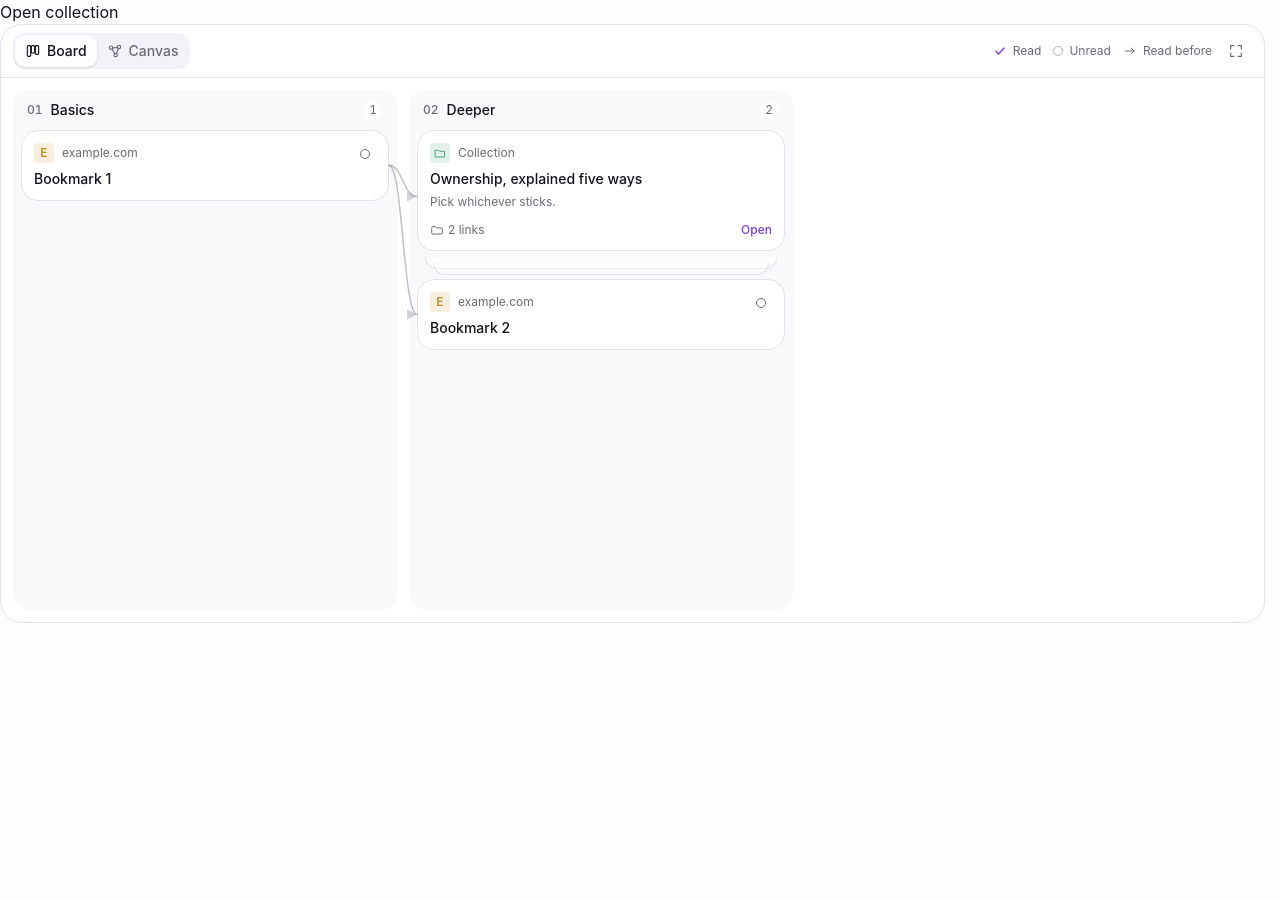
Test: CollectionSheet › puts the sheet comments behind a Comments tab, and nothing without a provider
Click the button that starts with "Collection" at [486, 152], box x1=417 y1=130 x2=785 y2=251
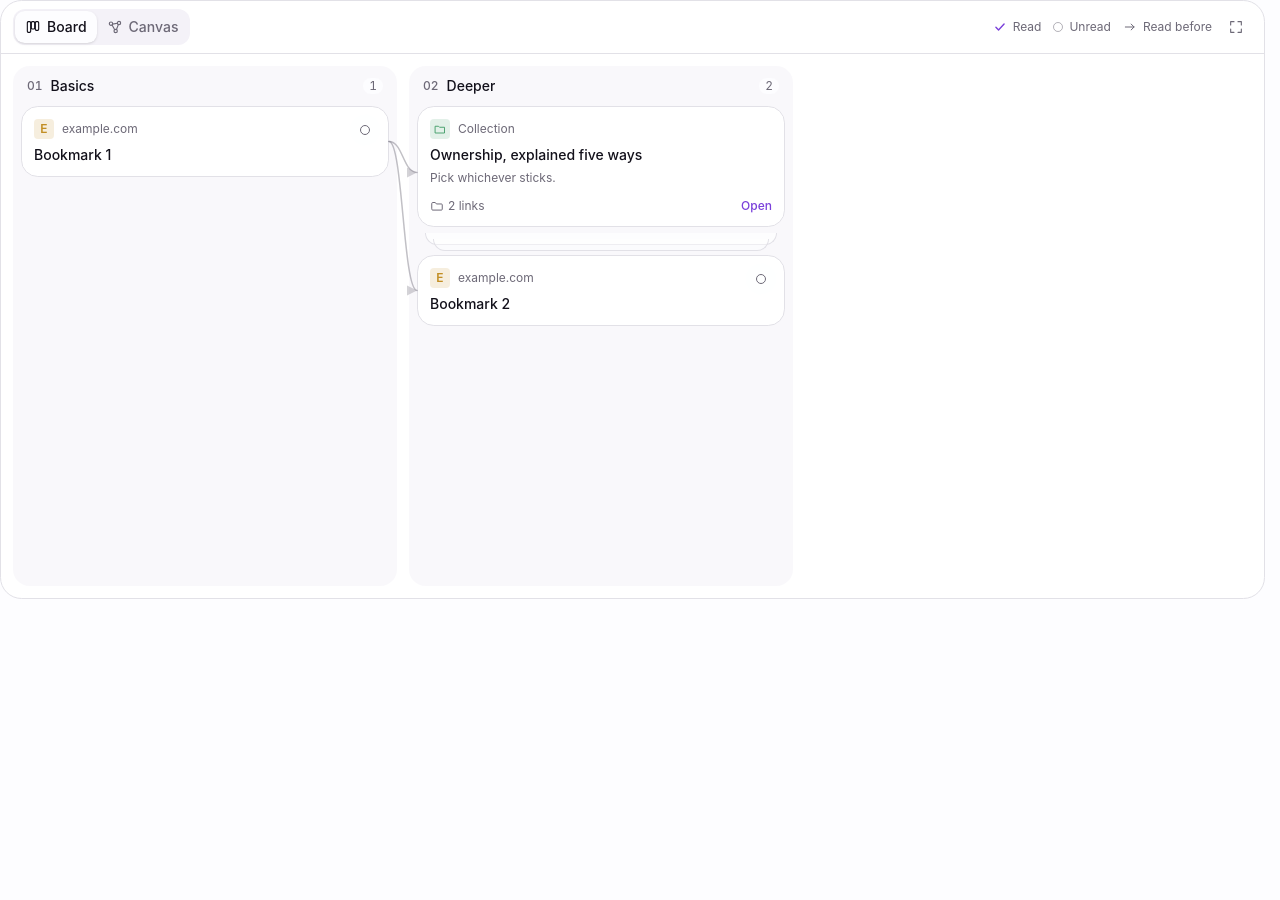
Click the button that starts with "Collection" at [486, 128], box x1=417 y1=106 x2=785 y2=227
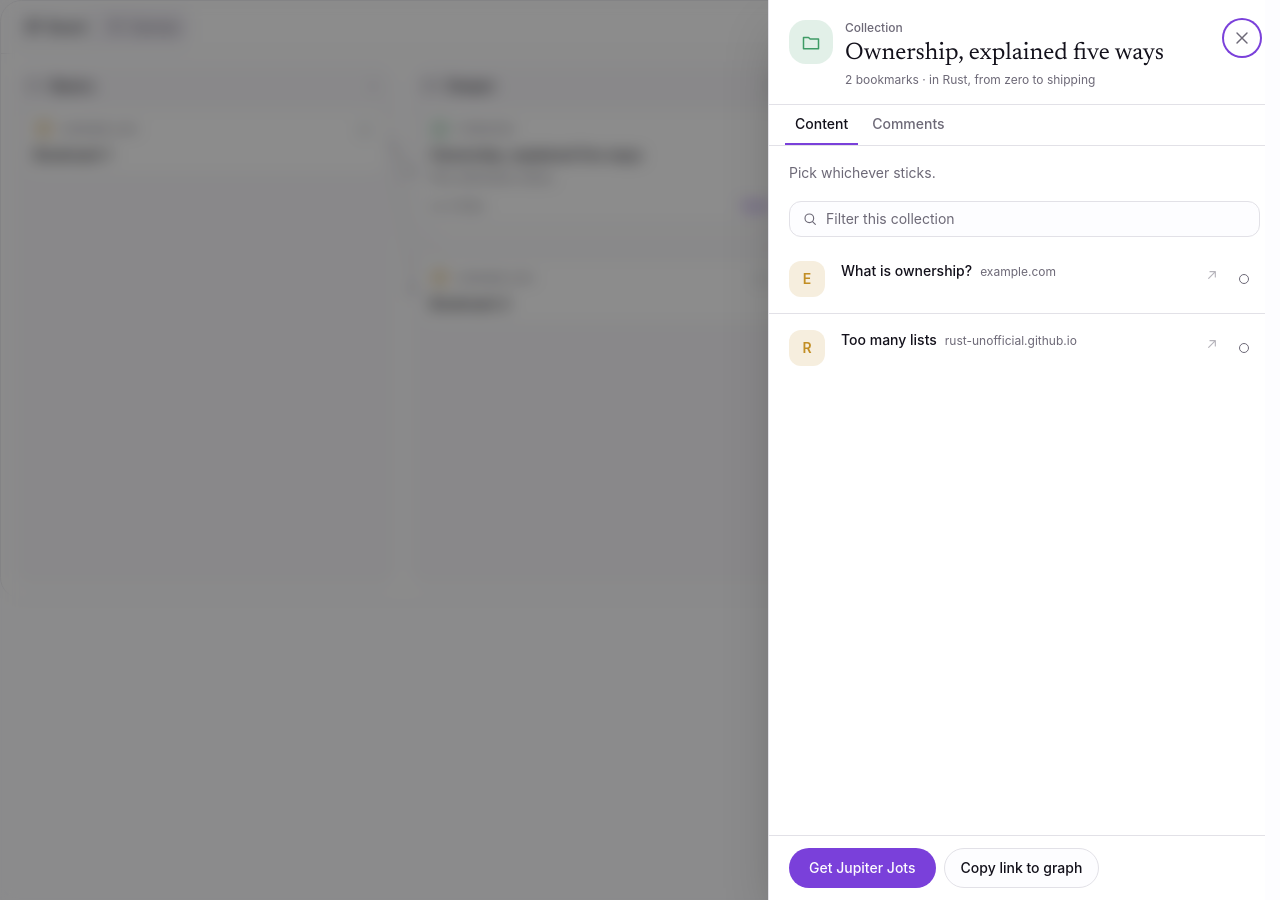
Click the tab "Comments" at [908, 125], box x1=862 y1=105 x2=955 y2=145
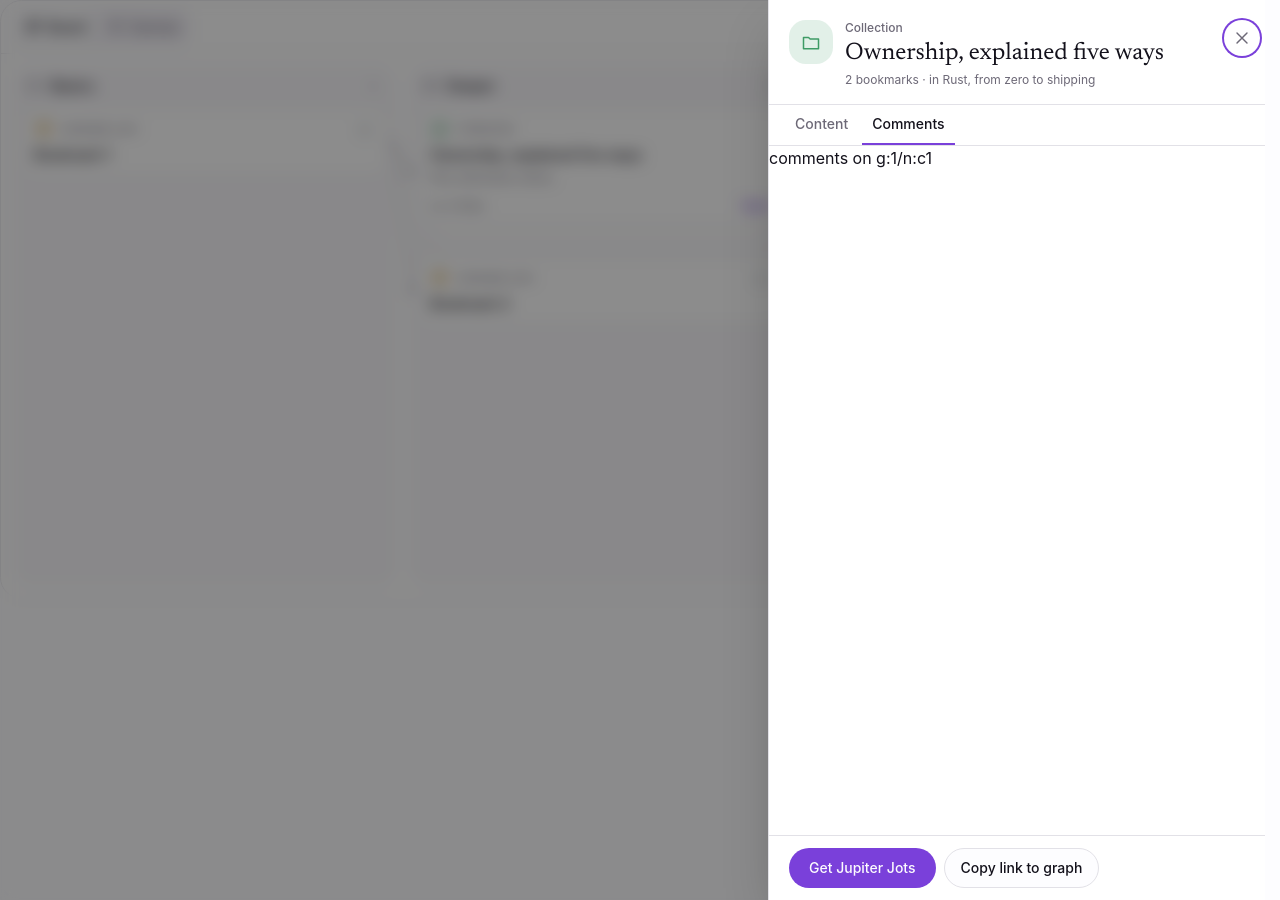
expect the text "comments on g:1/n:c1" is shown: met, box x1=769 y1=148 x2=932 y2=168
